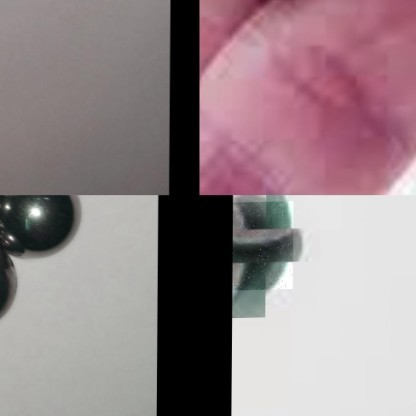ironball: (0, 196, 85, 259)
